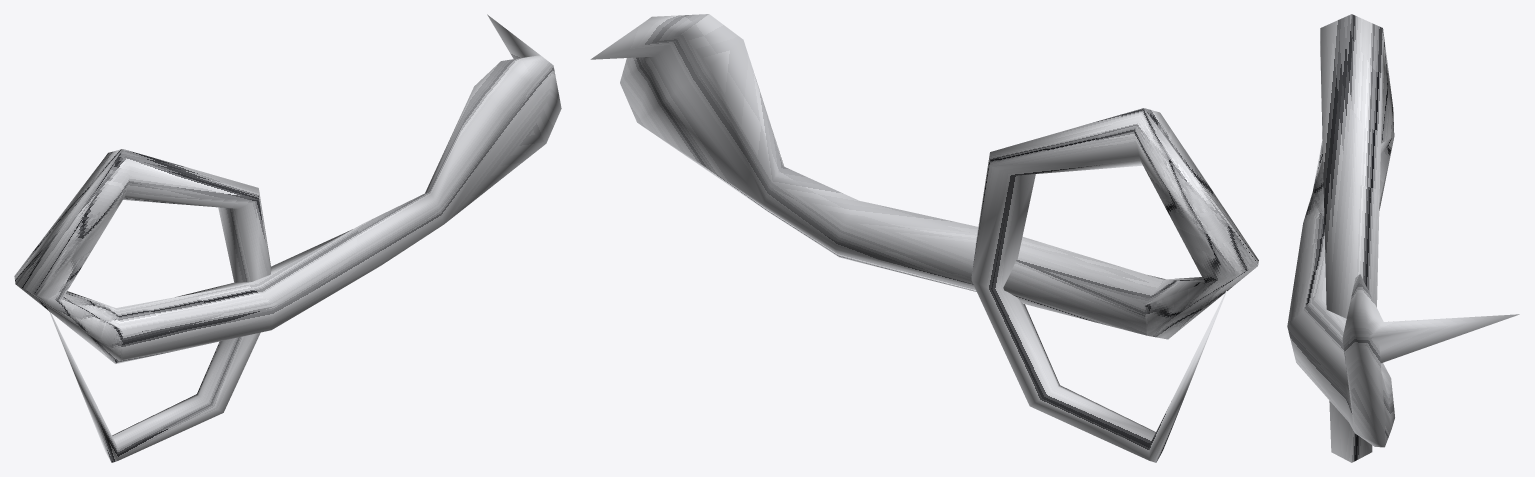
The model's file is snake_000056.obj.
3 views of the same model, side by side, from view 1: azimuth 30°, elevation 25°; view 2: azimuth 150°, elevation 25°; view 3: azimuth 270°, elevation 25° (orthographic). The views are drawn at different scales.
Parts seen in each view (by area): view 1: Cylinder; view 2: Cylinder; view 3: Cylinder.
Part boxes in pixels (x1=…): Cylinder: x1=14, y1=14, x2=561, y2=462; Cylinder: x1=590, y1=14, x2=1258, y2=462; Cylinder: x1=1287, y1=14, x2=1519, y2=462.
Size of the model in its own units: 4.55 by 2.44 by 1.24.
